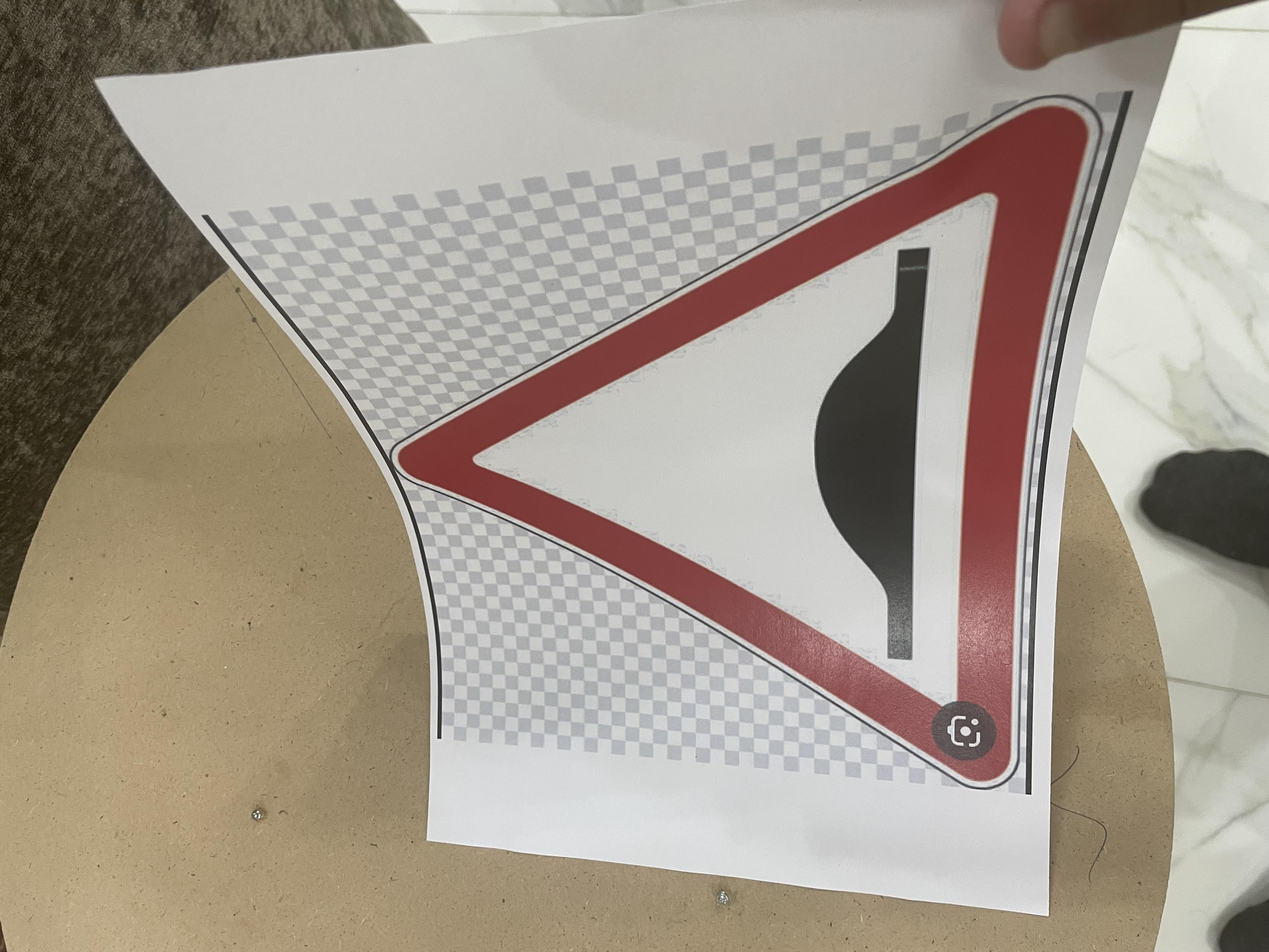Hump: (217, 289, 1151, 815)
